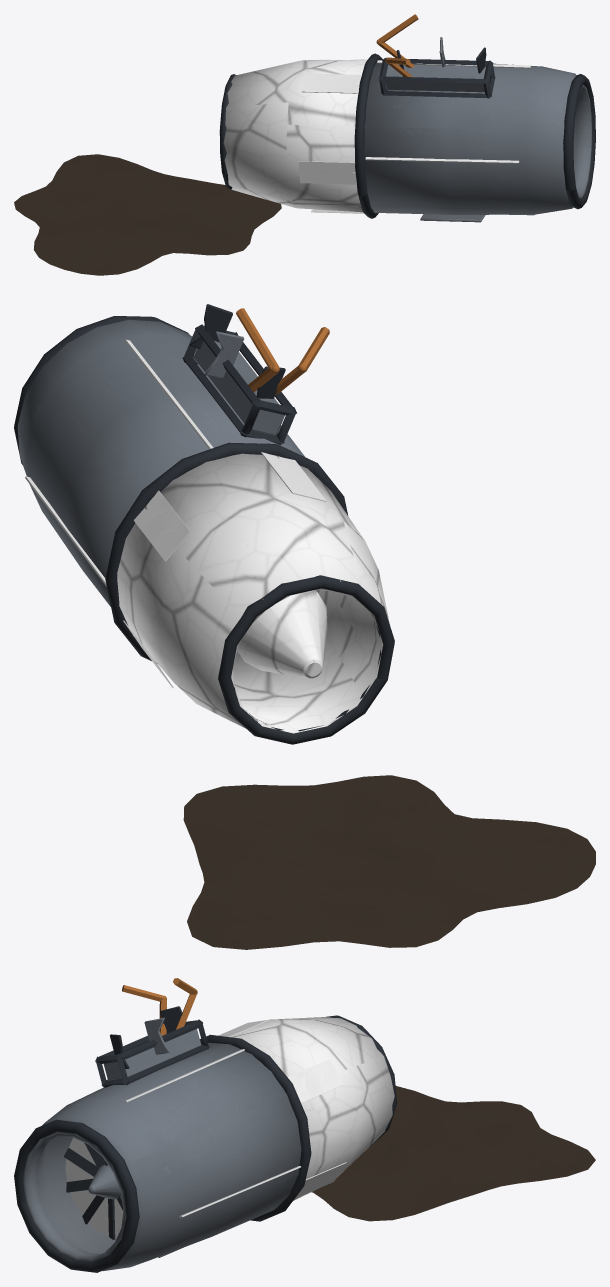
File: engine_nacelle_small.glb
The picture shows the model from 3 angles, top to bottom: view 1: azimuth 30°, elevation 25°; view 2: azimuth 150°, elevation 25°; view 3: azimuth 270°, elevation 25°; orthographic projection. The views are drawn at different scales.
Parts seen in each view (by area): view 1: engine_nacelle_small; view 2: engine_nacelle_small; view 3: engine_nacelle_small.
Boxes of the visible parts, x1=… form: engine_nacelle_small: x1=14, y1=14, x2=595, y2=275; engine_nacelle_small: x1=14, y1=304, x2=595, y2=949; engine_nacelle_small: x1=14, y1=978, x2=595, y2=1272.
Bounding box in the file's own units: 4.22 × 2.06 × 3.96.
7 materials, 7 textured.
